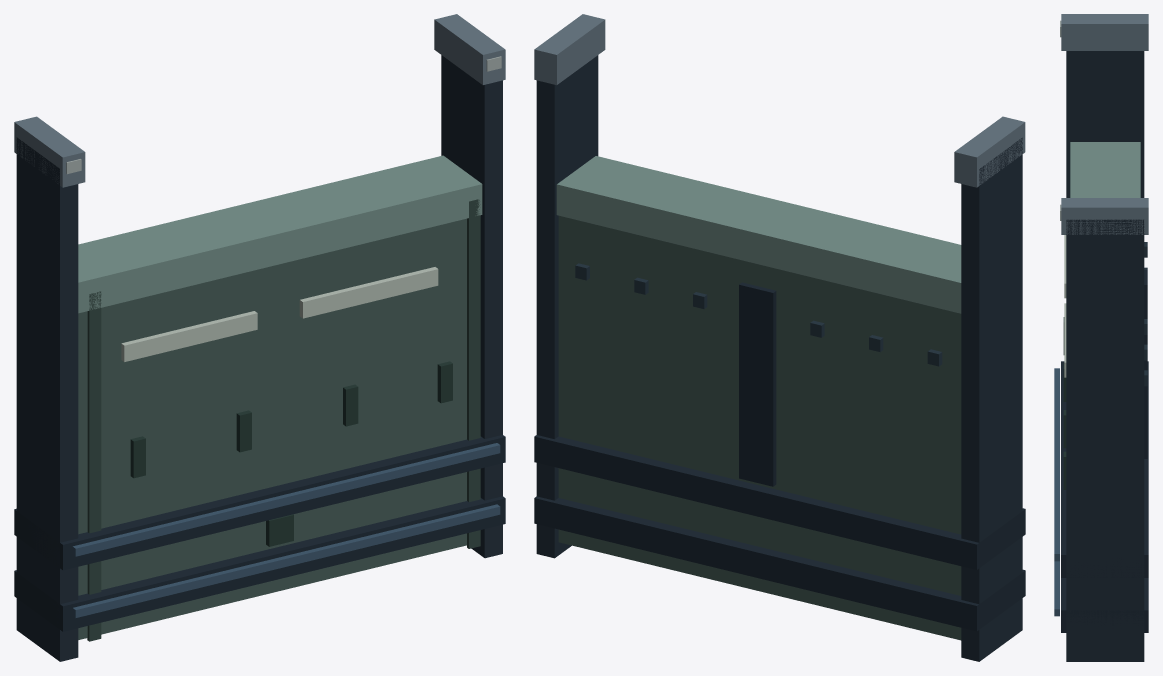
Rendered from CMU3DBruteReinforcedBarricade.glb.
3 renders of one model, left to right at view 1: azimuth 30°, elevation 25°; view 2: azimuth 150°, elevation 25°; view 3: azimuth 270°, elevation 25°, orthographic. The views are drawn at different scales.
Visible parts, largest first — view 1: metal barricade plate, brute reinforcing upright (×2), top rolled rim, reinforced lower beam (×2), lower beam blue edge (×2), metal face edge (×2), reinforcement cap (×2), pale panel identification strip (×2), lower central slot; view 2: metal barricade plate, brute reinforcing upright (×2), reinforced lower beam (×2), top rolled rim, back central vertical reinforcing rib, reinforcement cap (×2); view 3: brute reinforcing upright (×2), reinforcement cap (×2), top rolled rim, reinforced lower beam (×2), lower beam blue edge (×2), back central vertical reinforcing rib, pale panel identification strip (×2).
Boxes of the visible parts, x1=… form: metal barricade plate: x1=78, y1=218, x2=466, y2=639; brute reinforcing upright (×2): x1=16, y1=55, x2=502, y2=661; top rolled rim: x1=78, y1=155, x2=482, y2=313; reinforced lower beam (×2): x1=14, y1=435, x2=505, y2=631; lower beam blue edge (×2): x1=72, y1=443, x2=500, y2=617; metal face edge (×2): x1=87, y1=199, x2=480, y2=641; reinforcement cap (×2): x1=14, y1=14, x2=505, y2=187; pale panel identification strip (×2): x1=121, y1=267, x2=438, y2=361; lower central slot: x1=266, y1=514, x2=293, y2=546; metal barricade plate: x1=558, y1=215, x2=961, y2=640; brute reinforcing upright (×2): x1=536, y1=55, x2=1022, y2=661; reinforced lower beam (×2): x1=534, y1=435, x2=1025, y2=631; top rolled rim: x1=556, y1=156, x2=961, y2=313; back central vertical reinforcing rib: x1=739, y1=282, x2=776, y2=486; reinforcement cap (×2): x1=534, y1=14, x2=1025, y2=187; brute reinforcing upright (×2): x1=1066, y1=51, x2=1144, y2=661; reinforcement cap (×2): x1=1061, y1=14, x2=1148, y2=234; top rolled rim: x1=1070, y1=142, x2=1140, y2=197; reinforced lower beam (×2): x1=1061, y1=361, x2=1148, y2=632; lower beam blue edge (×2): x1=1054, y1=368, x2=1059, y2=616; back central vertical reinforcing rib: x1=1144, y1=270, x2=1147, y2=458; pale panel identification strip (×2): x1=1064, y1=235, x2=1066, y2=377.
Bounding box in the file's own units: 0.98 × 1.07 × 0.201.
